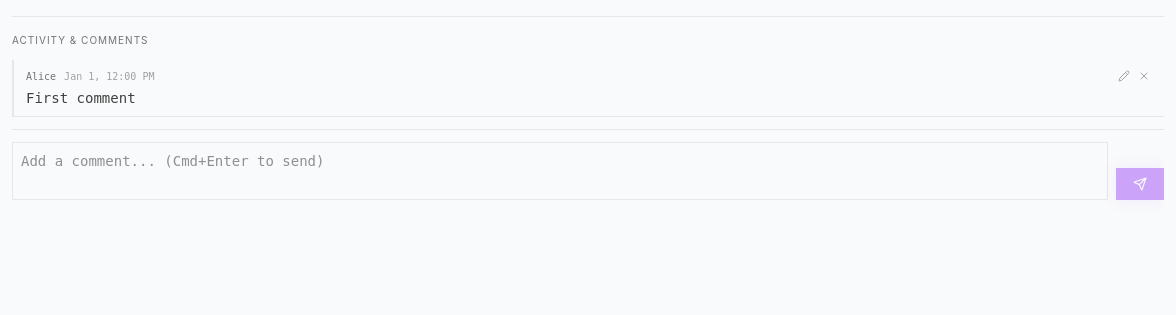
Test: CommentThread › clicking Pencil on own comment switches to edit textarea
Click the button named "Edit comment".
click(1124, 76)  # box [1116,68,1132,84]
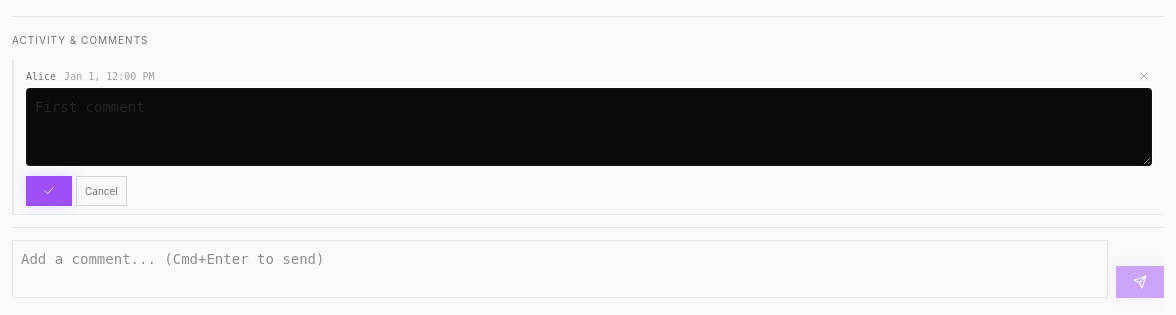
Expected: the icon with class "lucide-check" is shown, [43,185,55,197]
Result: the text box showing "First comment" is shown at [26,88,1152,166]
